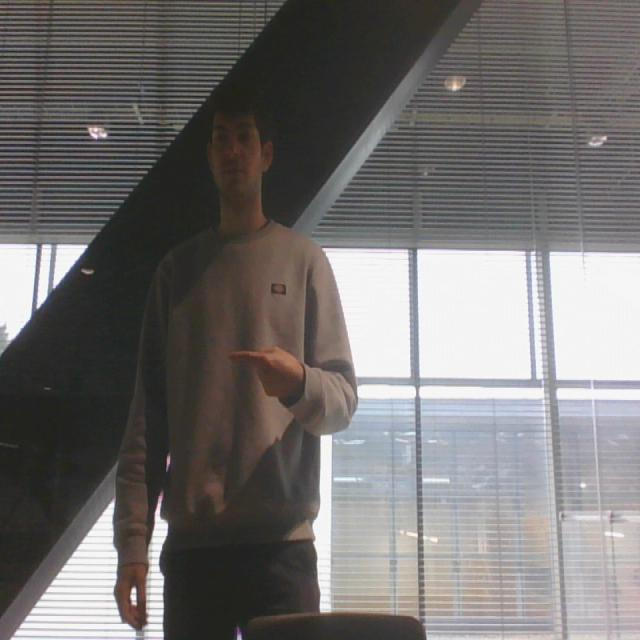left: (224, 338, 306, 409)
